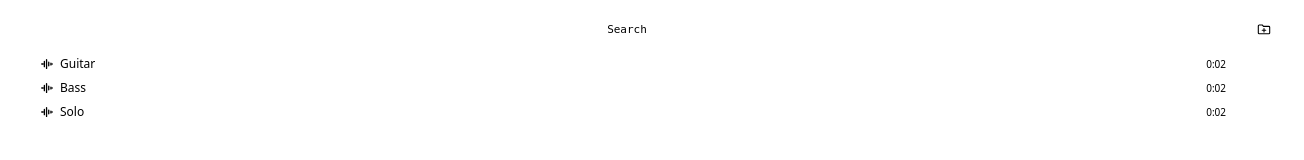
previewing a take › keeps the button on a take renamed while it plays
Press the mouse on the list item "Guitar 0:02" at (78, 64), box [12,52,1292,76]
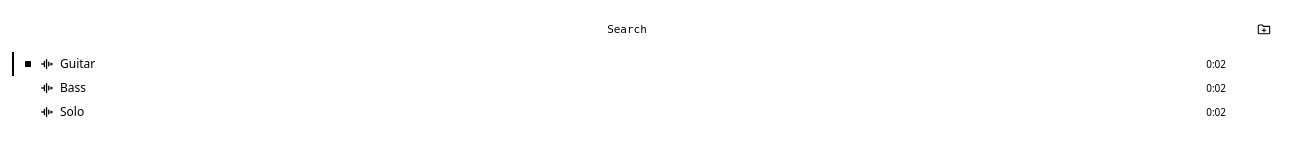
Right-click the list item "Guitar 0:02" at (78, 64), box [12,52,1292,76]
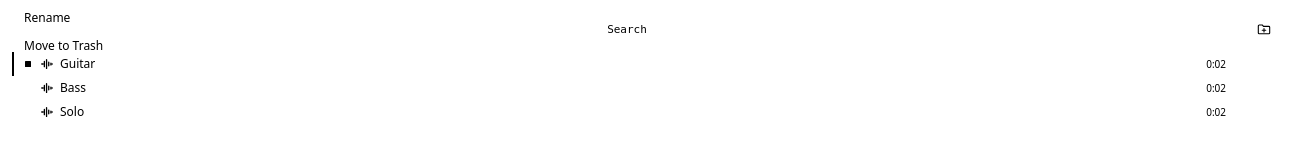
Click the menu item "Rename" at (100, 18), box [12,4,188,32]
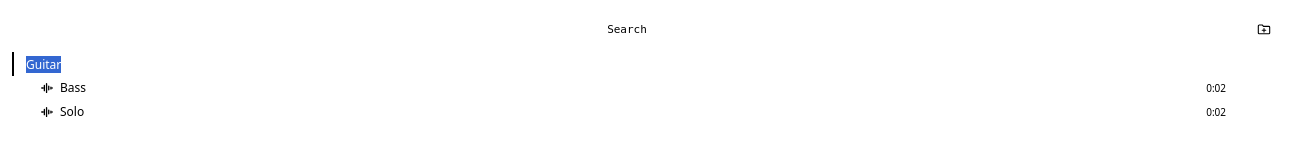
Replace the text in the field named "Recording name" with "Riff" at (651, 64), box [22,54,1280,74]
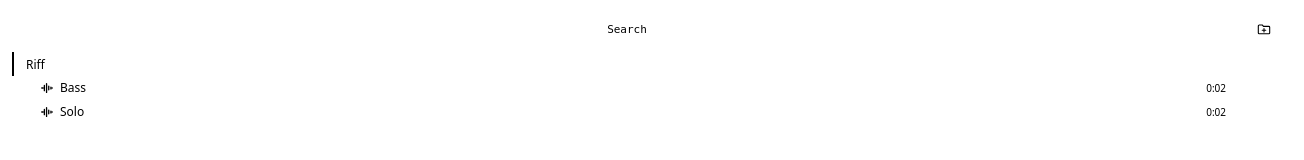
Press Enter in the field named "Recording name", box [22,54,1280,74]
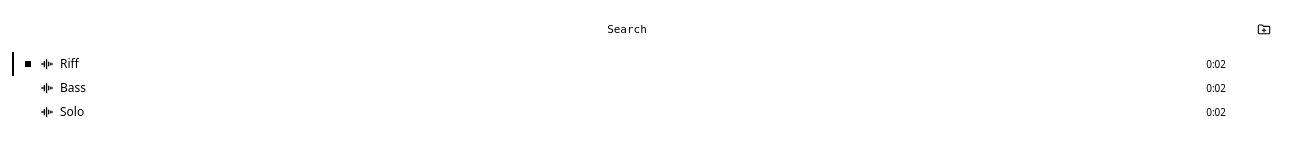
Expected: the number of buttons named "Stop preview" is 1, [22,58,34,70]
